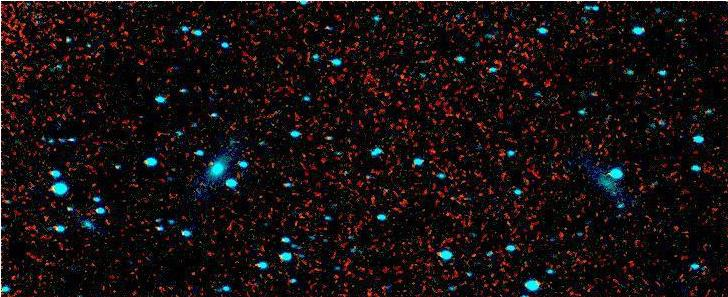star: (195, 148, 225, 178)
